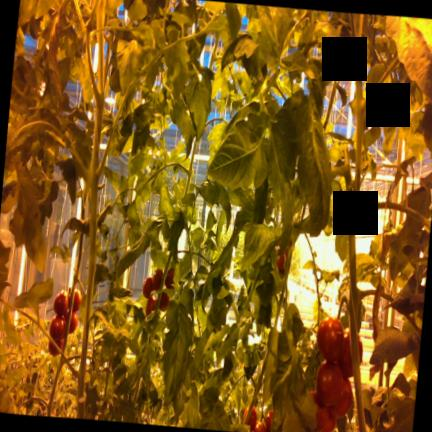MainStem: (77, 31, 104, 418), (348, 13, 366, 432), (62, 235, 83, 352), (243, 355, 267, 425), (48, 356, 64, 417), (185, 141, 196, 194)
tomato: (338, 328, 363, 378), (316, 360, 343, 406), (317, 317, 343, 362), (329, 378, 353, 418), (49, 315, 66, 341), (53, 290, 69, 316), (243, 406, 256, 432), (316, 406, 329, 432), (48, 337, 63, 356), (321, 413, 336, 432), (142, 277, 154, 298), (152, 269, 163, 290), (159, 292, 170, 311), (146, 296, 156, 316), (276, 252, 286, 272), (73, 289, 82, 311), (69, 312, 78, 333), (165, 268, 174, 289), (265, 410, 273, 432), (254, 421, 266, 432)
